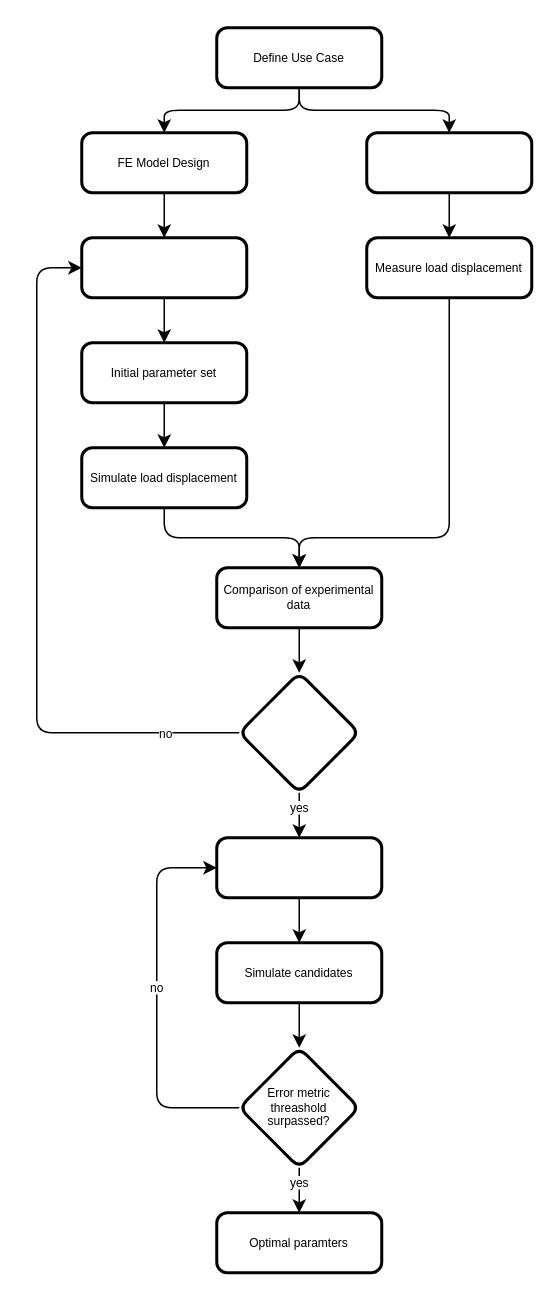
The diagram is 560 pixels wide and 1299 high, and some of its shapes have lost their labels. The centre of each missing label's shape, as x and y in pixels:
Capture mechanical behaviour?: [298,732]
Experimental Design: [448,162]
Input material paramter range: [298,867]
Selection of material law: [164,267]
